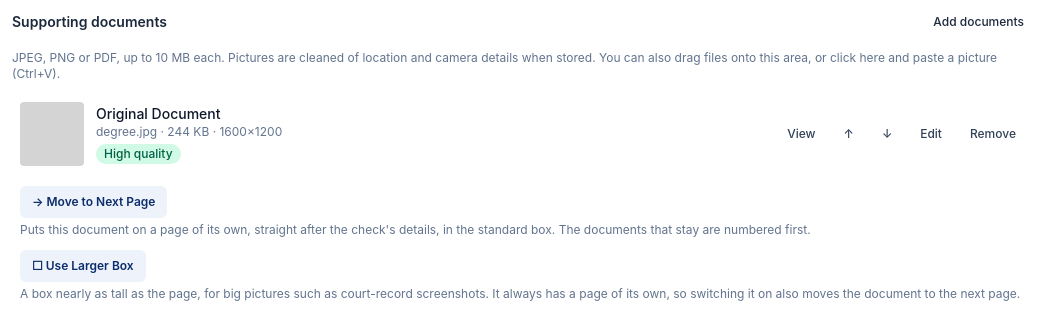
Test: CheckDocuments › shows both switches on after one click, on the screen and in the badges
Click the button with aria-label "Use a larger box for Original Document": {"x": 83, "y": 266} [20, 250, 146, 282]
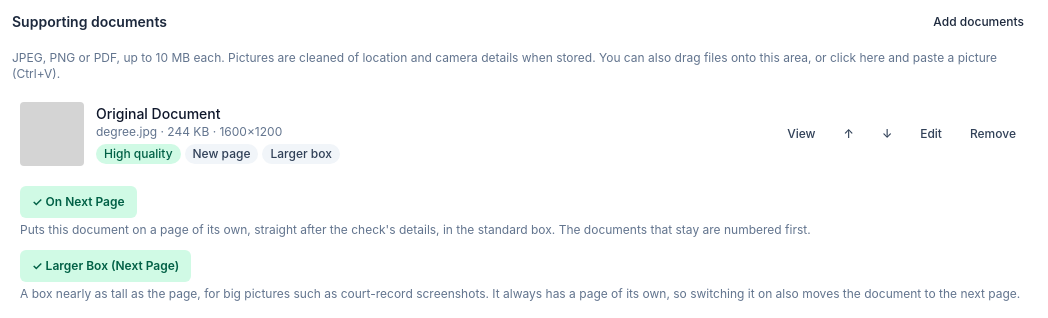
Expected: the button with aria-label "Use a larger box for Original Document" is shown, [20, 250, 191, 282]
Now the text "New page" is shown, box [184, 144, 258, 164]
Now the text "Larger box" is shown, box [262, 144, 340, 164]
